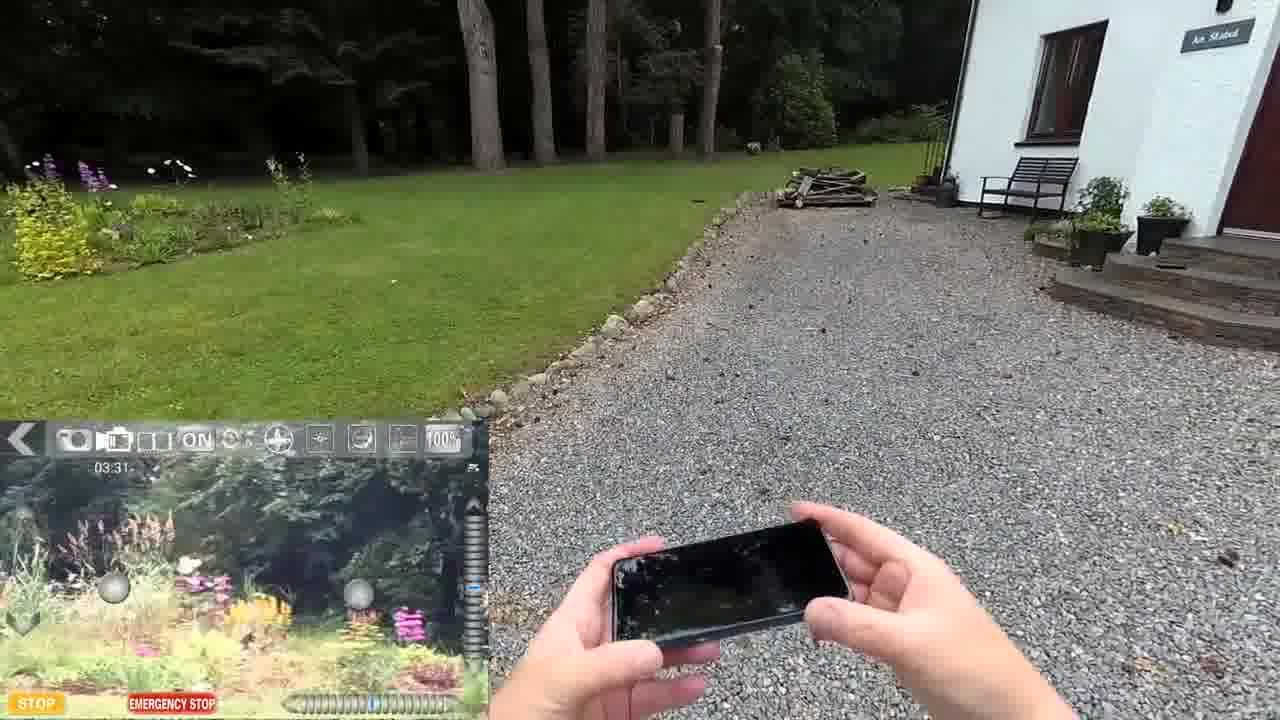Drone: (684, 194, 712, 208)
